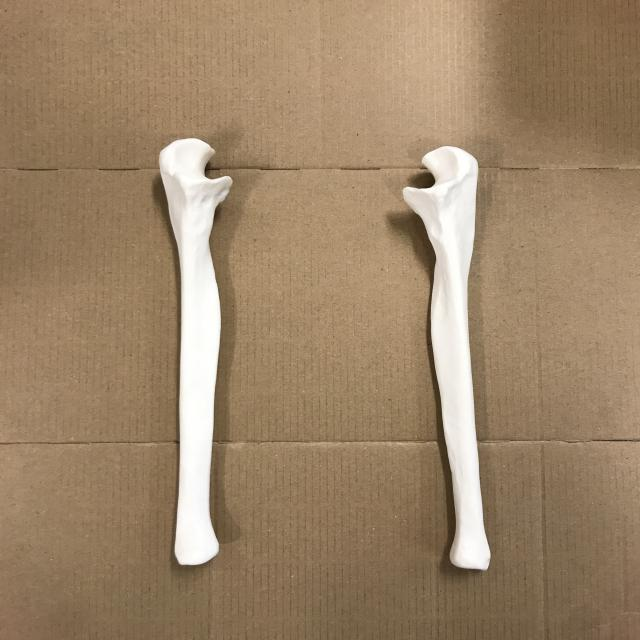bone: (396, 138, 504, 583), (150, 134, 239, 568)
